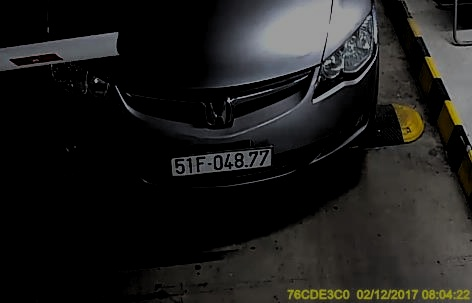plate: (169, 145, 271, 175)
